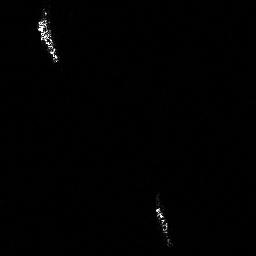ship: (32, 6, 63, 66)
